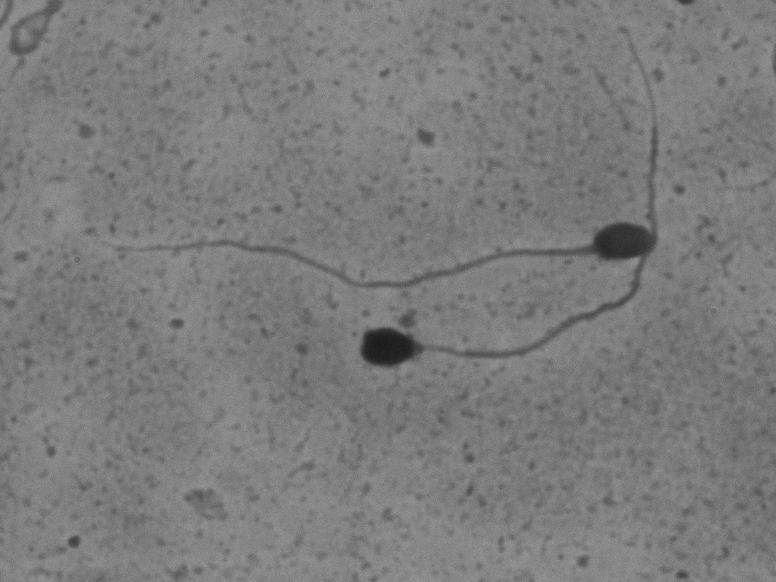Abnormal: (350, 22, 666, 383)
Normal: (91, 213, 652, 299)
